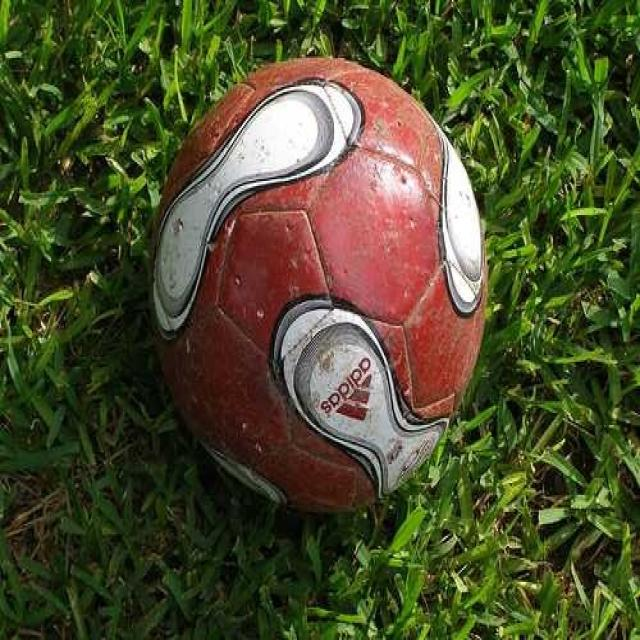ball: (150, 57, 487, 517)
